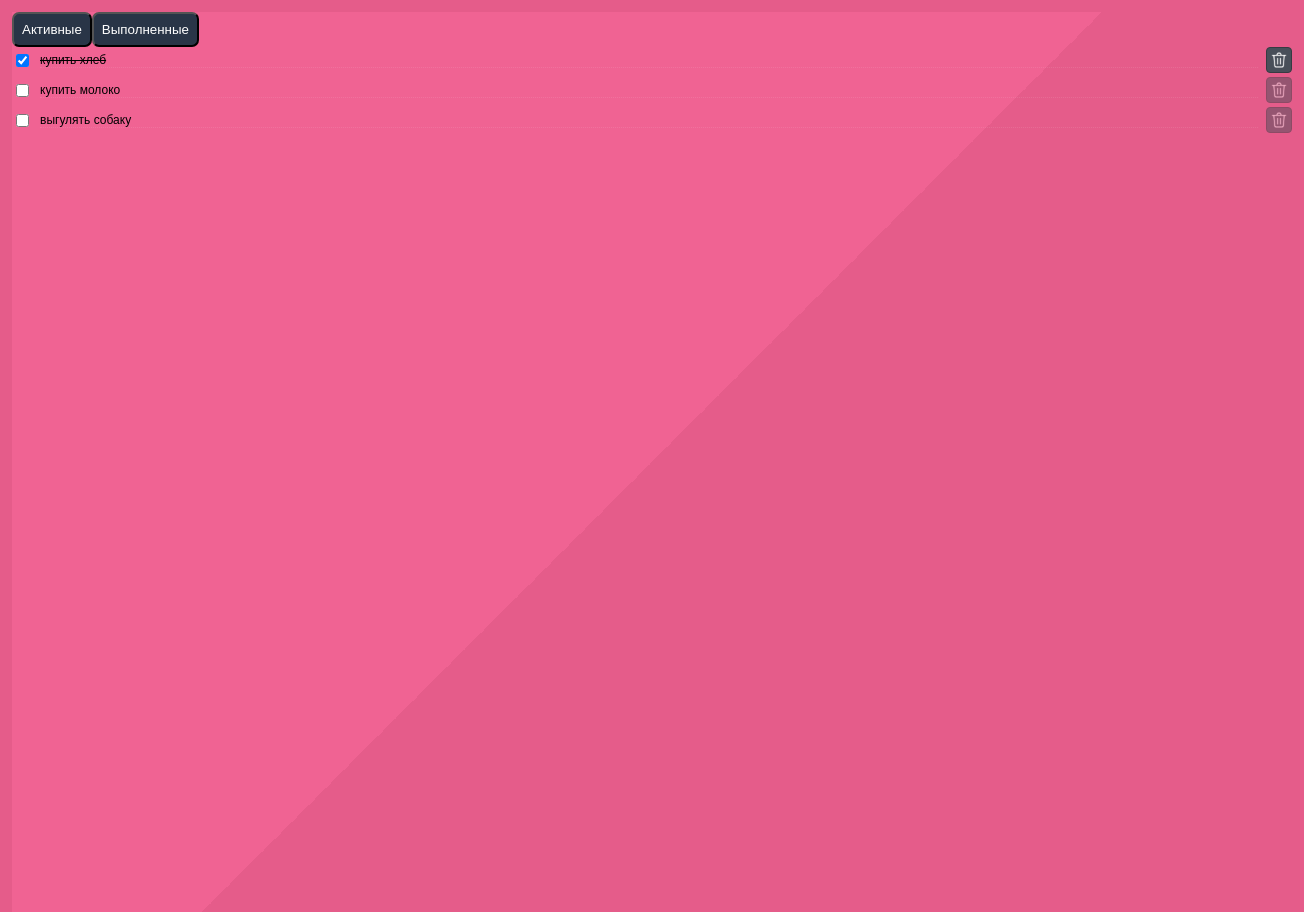
Test case: Список задач › с включенным фильтром по выполненным
Click the button "Выполненные": click(145, 30) [92,12,199,47]
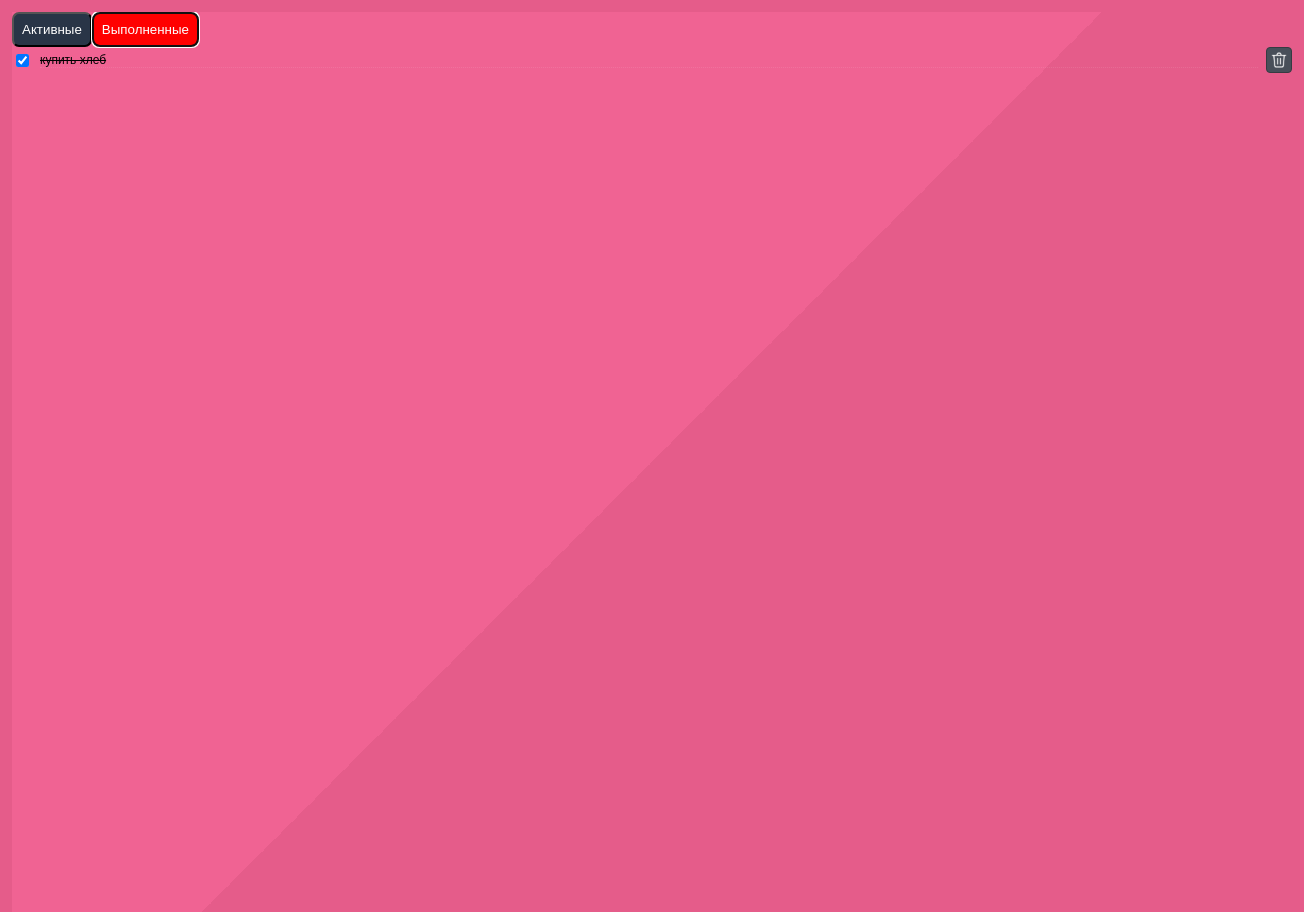
expect the number of checkboxes is 1: met, box [16,54,29,66]
